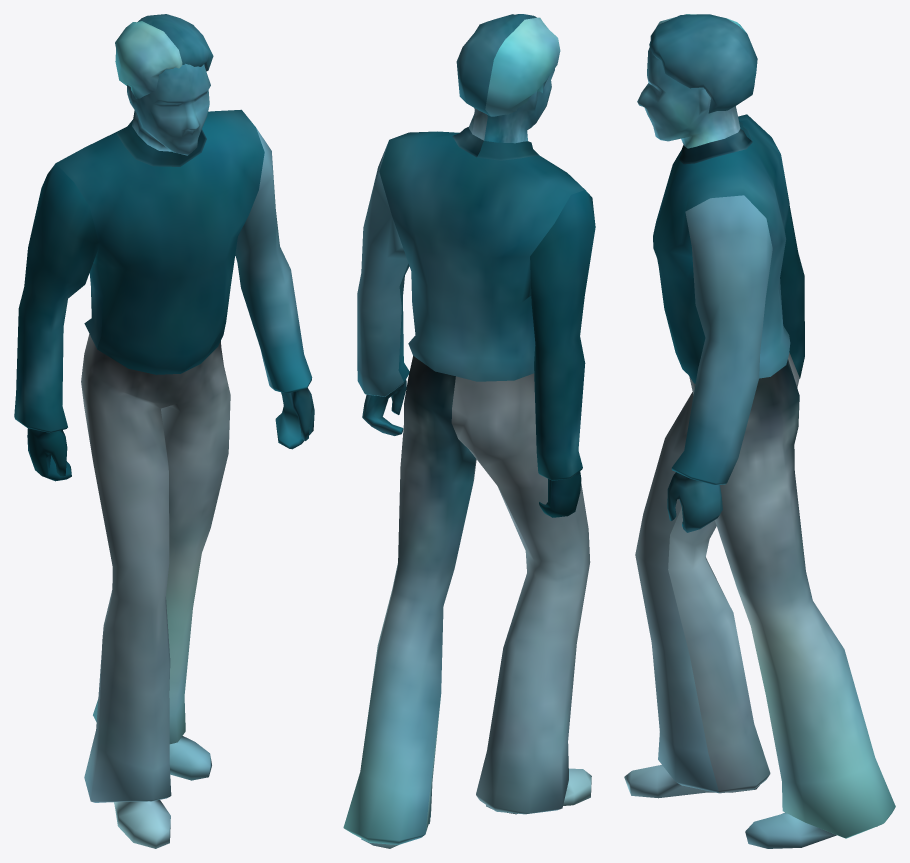
The model's file is simpleMan10.obj.
The picture shows the model from 3 angles, left to right: view 1: azimuth 30°, elevation 25°; view 2: azimuth 150°, elevation 25°; view 3: azimuth 270°, elevation 25°; orthographic projection.
Parts seen in each view (by area): view 1: uomo; view 2: uomo; view 3: uomo.
Boxes of the visible parts, x1=… form: uomo: x1=14, y1=14, x2=314, y2=848; uomo: x1=343, y1=14, x2=595, y2=848; uomo: x1=624, y1=14, x2=895, y2=848.
Bounding box in the file's own units: 1.64 × 4.94 × 1.53.
1 material, 1 textured.
